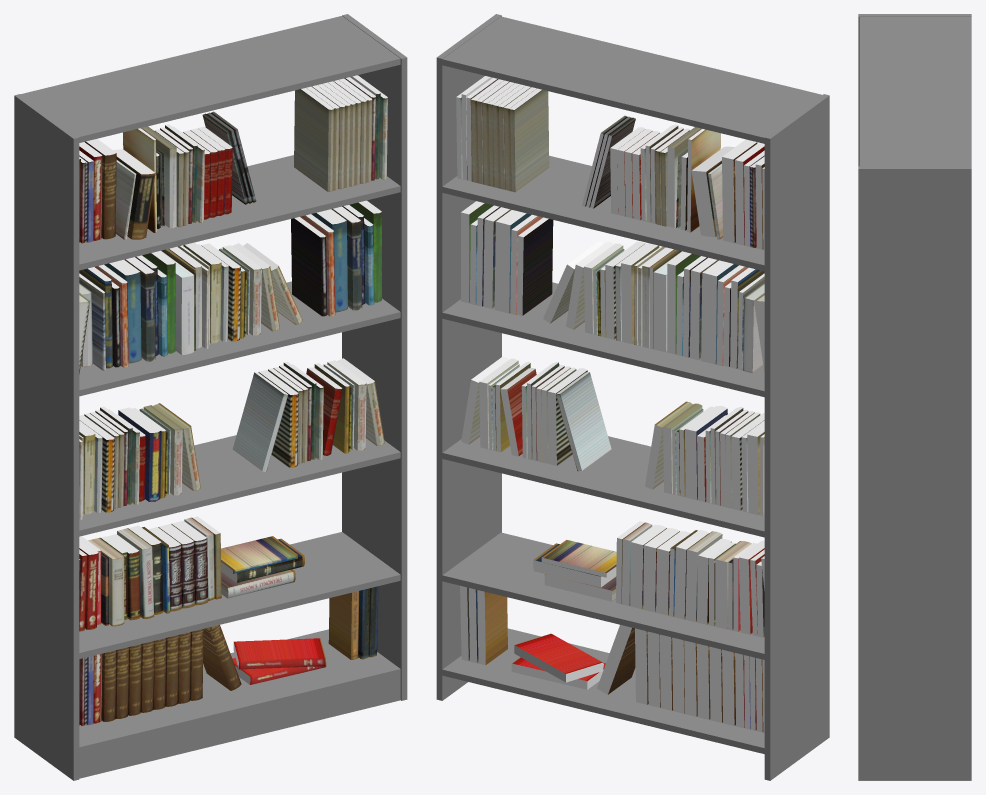
The model's file is Bookshelf 2.FBX.
3 renders of one model, left to right at view 1: azimuth 30°, elevation 25°; view 2: azimuth 150°, elevation 25°; view 3: azimuth 270°, elevation 25°, orthographic. The views are drawn at different scales.
Parts seen in each view (by area): view 1: bookshelf 2, books; view 2: bookshelf 2, books; view 3: bookshelf 2.
Part boxes in pixels (bbox=[...]): bookshelf 2: bbox=[14, 14, 407, 780]; books: bbox=[79, 75, 387, 725]; bookshelf 2: bbox=[436, 14, 829, 780]; books: bbox=[456, 76, 764, 732]; bookshelf 2: bbox=[858, 14, 971, 780].
Size of the model in its own units: 1.1 by 2.02 by 0.34.
Materials: 2 (1 with a texture image).
